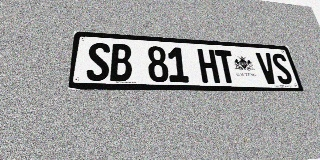1: (166, 47, 189, 83)
8: (147, 46, 169, 82)
B: (110, 43, 132, 82)
H: (197, 49, 220, 83)
S: (86, 42, 110, 81), (270, 53, 294, 84)
T: (214, 50, 238, 83)
V: (255, 52, 279, 84)
